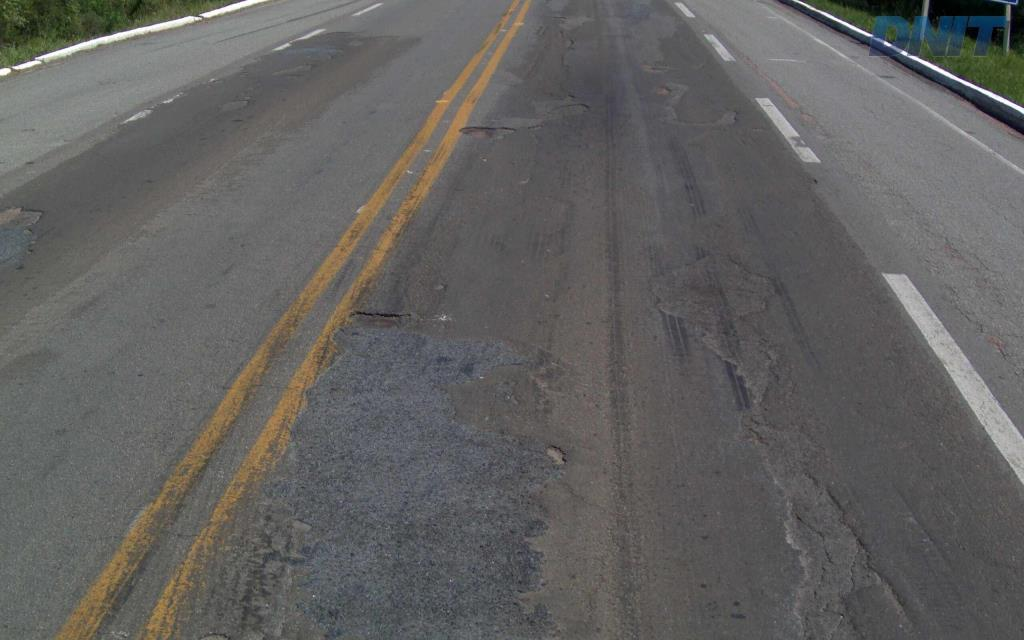pothole: (645, 241, 894, 638), (335, 299, 416, 331), (661, 104, 740, 132), (530, 435, 575, 472), (457, 118, 521, 141), (644, 83, 668, 100)
